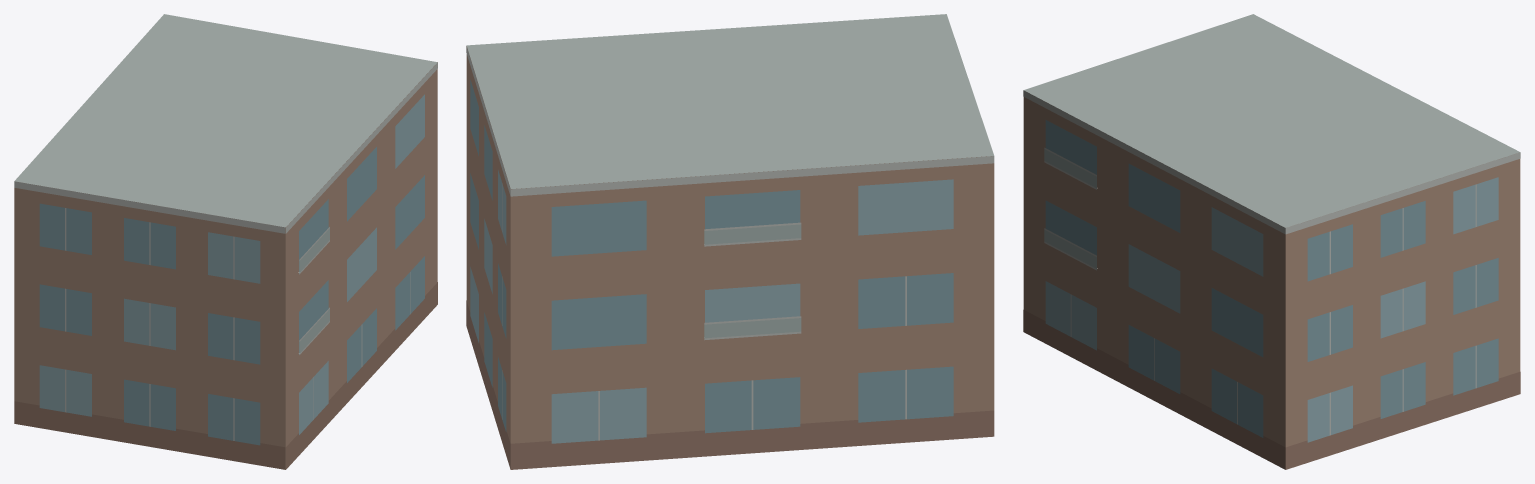
File: survey-upis-32709391.glb
The picture shows the model from 3 angles, left to right: view 1: azimuth 30°, elevation 25°; view 2: azimuth 150°, elevation 25°; view 3: azimuth 270°, elevation 25°; orthographic projection. The views are drawn at different scales.
Visible parts, largest first — view 1: survey-upis-32709391.tmp; view 2: survey-upis-32709391.tmp; view 3: survey-upis-32709391.tmp.
Boxes of the visible parts, left/top/right/bottom form: survey-upis-32709391.tmp: left=14, top=14, right=437, bottom=469; survey-upis-32709391.tmp: left=466, top=14, right=994, bottom=469; survey-upis-32709391.tmp: left=1023, top=14, right=1520, bottom=469.
Size of the model in its own units: 17.37 by 9.15 by 17.05.
